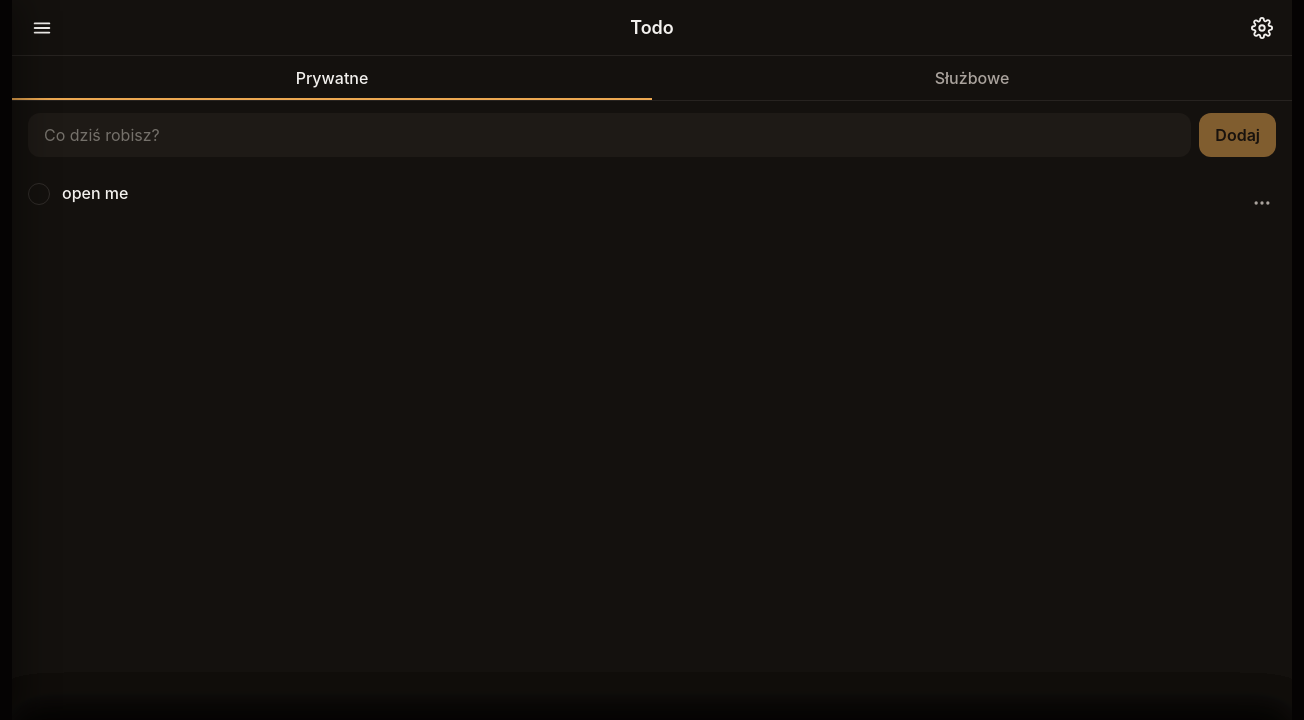
Test: MainList › overflow menu, edit, and delete › clicking Usuń once flips label to Na pewno? and does not delete
Click the button named "Więcej akcji" at (1262, 203), box x1=1240 y1=181 x2=1284 y2=225
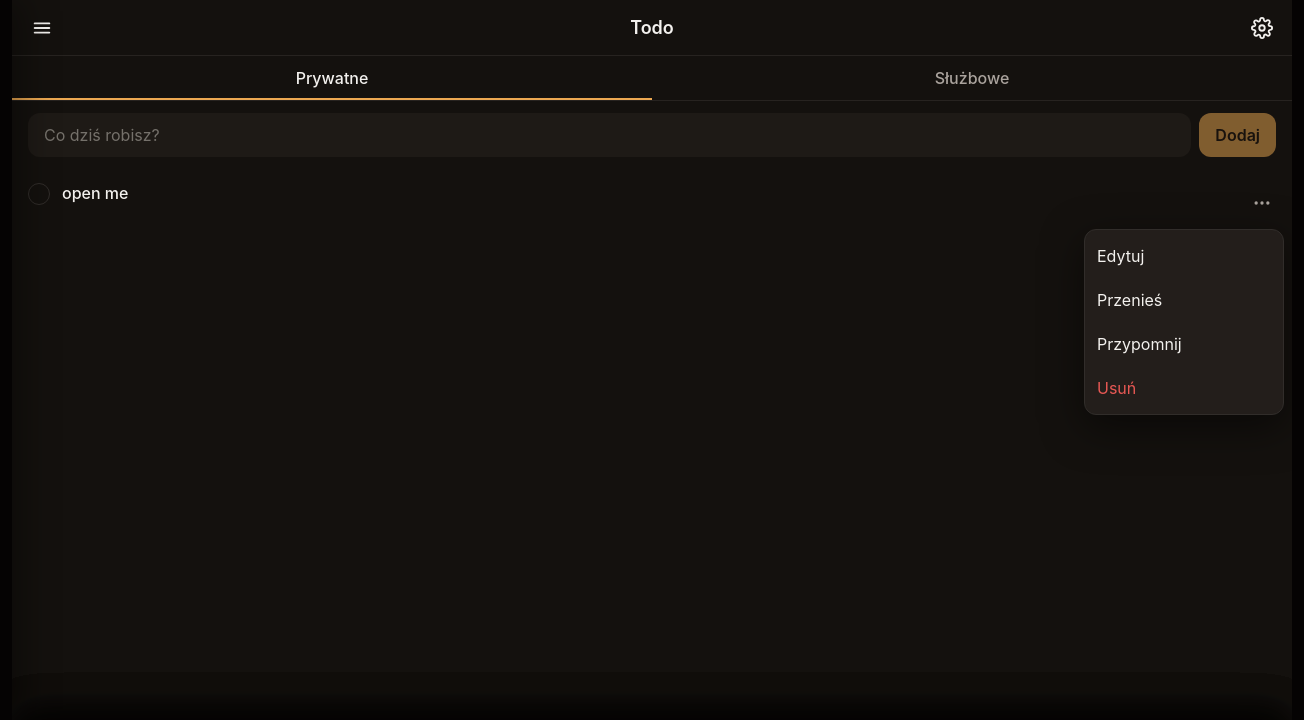
Click the menu item "Usuń" at (1184, 388), box x1=1085 y1=366 x2=1283 y2=410
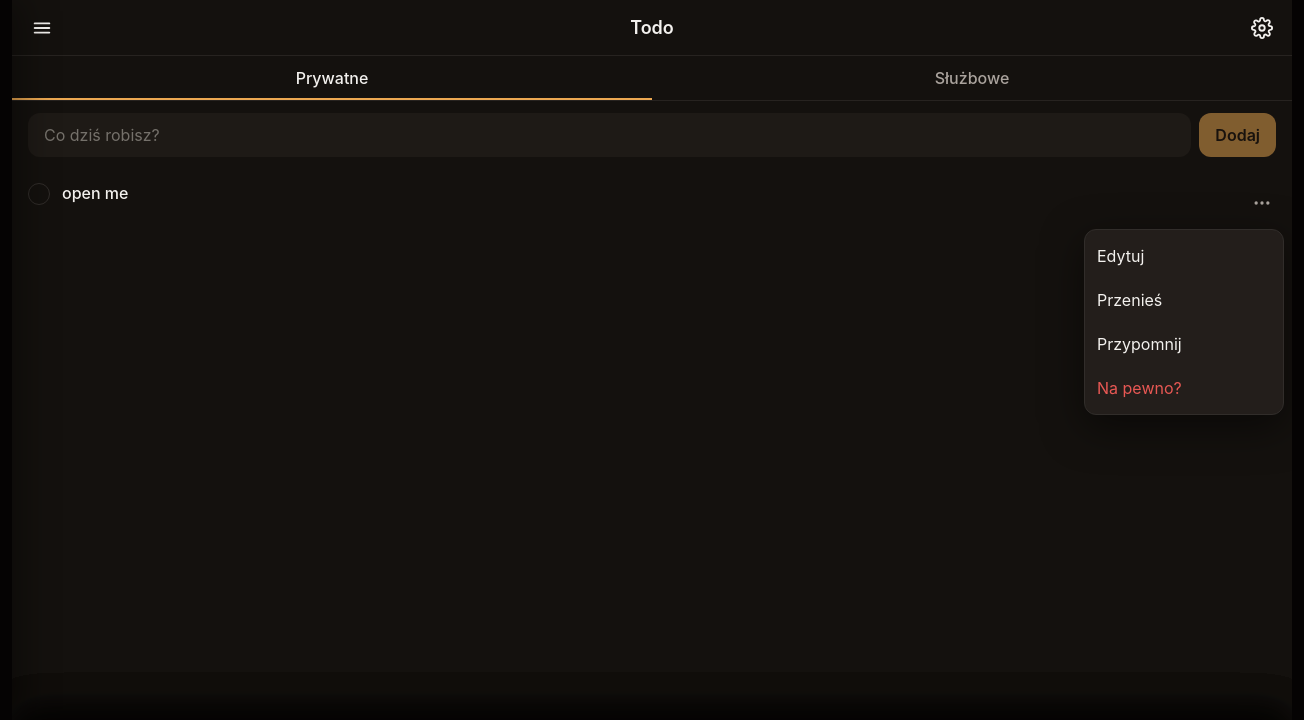
Expected: the menu item "Edytuj" is shown, x1=1085 y1=234 x2=1283 y2=278
Expected: the menu item "Na pewno?" is shown, x1=1085 y1=366 x2=1283 y2=410
